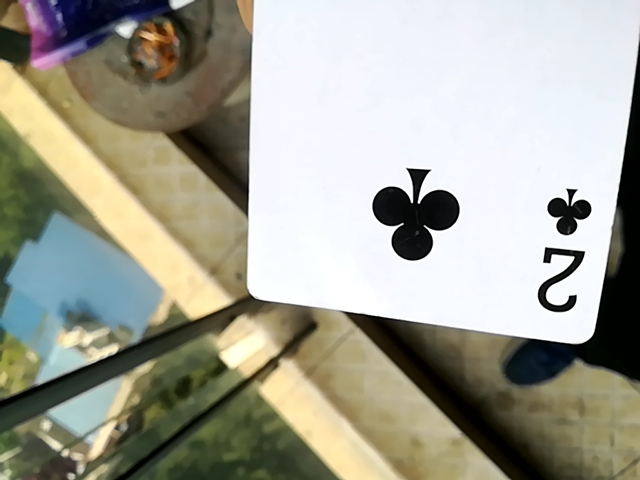mh 2: (237, 4, 640, 348)
